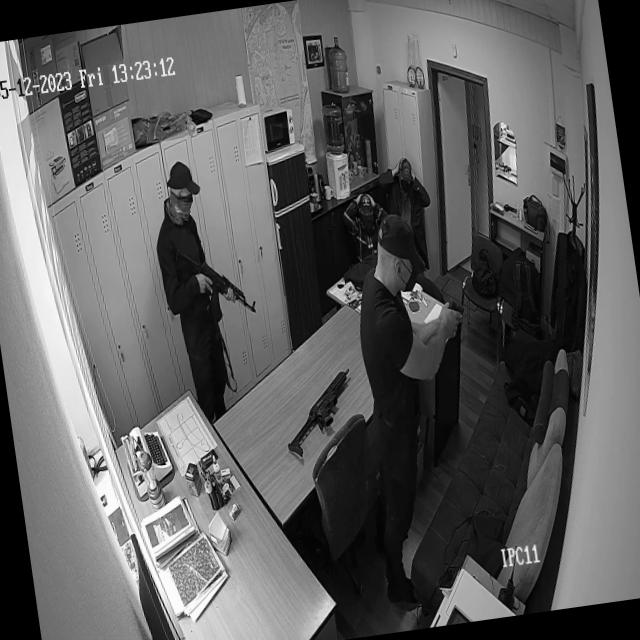gun: (267, 332, 362, 454), (174, 238, 260, 327), (436, 284, 466, 317)
person: (351, 183, 388, 260), (386, 159, 424, 226)
person with a gun: (339, 190, 464, 571), (143, 150, 244, 422)
